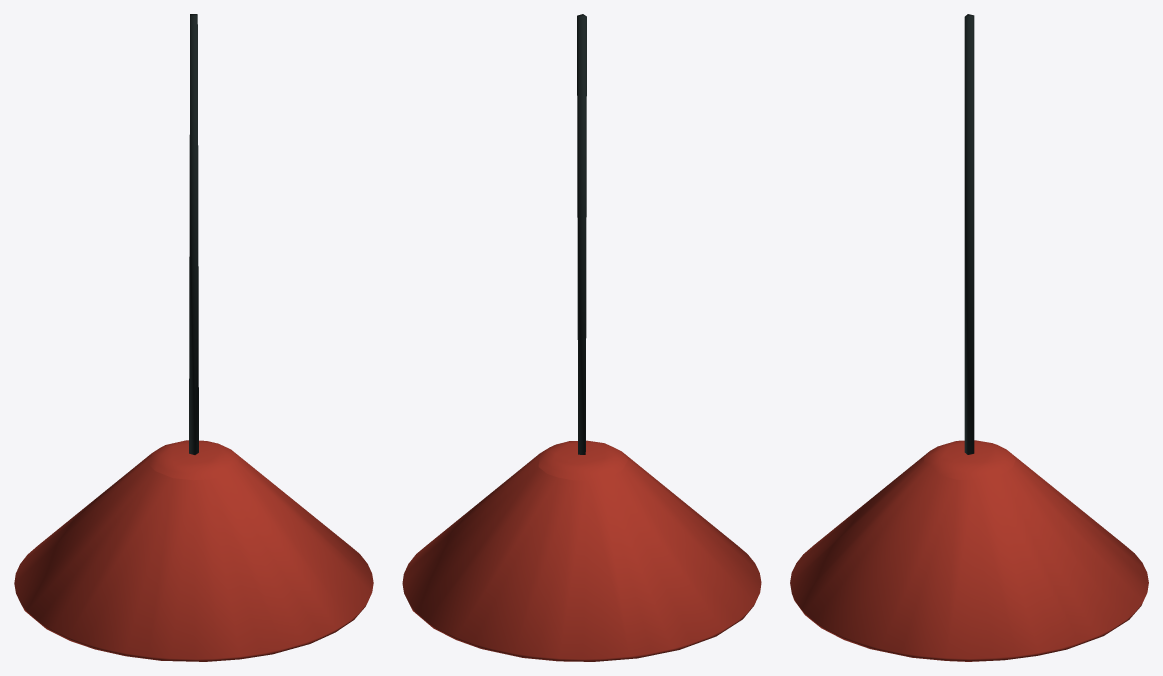
The model's file is den_treo.glb.
3 renders of one model, left to right at view 1: azimuth 30°, elevation 25°; view 2: azimuth 150°, elevation 25°; view 3: azimuth 270°, elevation 25°, orthographic.
Visible parts, largest first — view 1: den_treo; view 2: den_treo; view 3: den_treo.
Part boxes in pixels (bbox=[...]): den_treo: bbox=[14, 14, 373, 661]; den_treo: bbox=[402, 14, 761, 661]; den_treo: bbox=[790, 14, 1148, 661].
Bounding box in the file's own units: 0.2903 × 0.555 × 0.2903.
